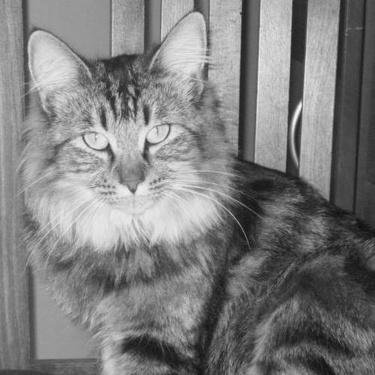cat: (17, 9, 371, 369)
